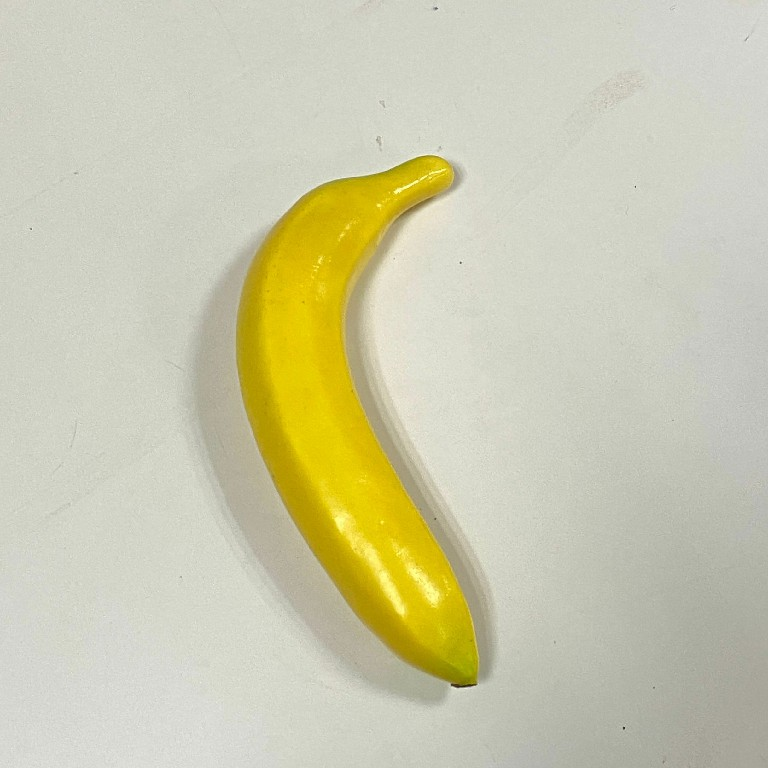fruit_banana: (232, 148, 493, 694)
